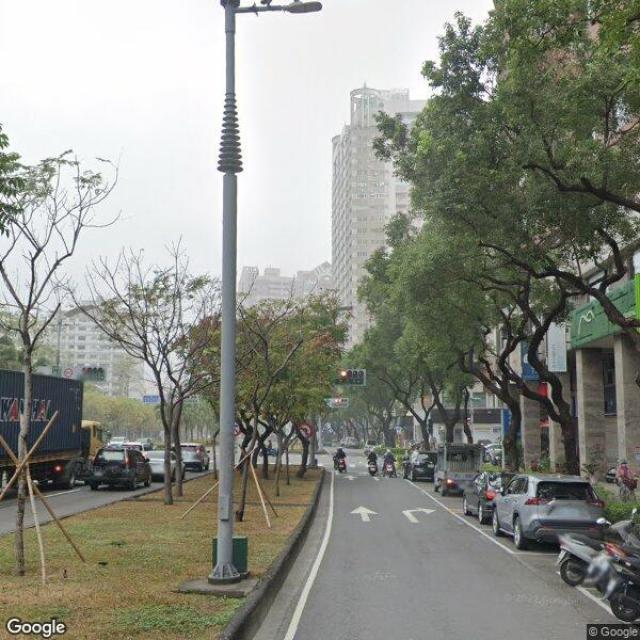Legalparking: (434, 443, 639, 622)
illegalparking: (86, 448, 166, 489), (169, 447, 205, 481)
